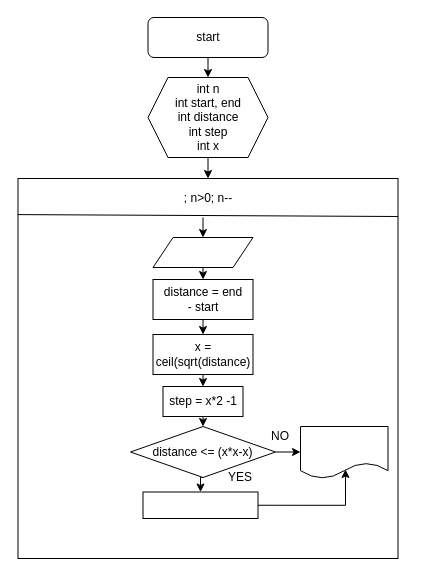
This 437x576 diagram has some shape labels left out. Each missing label, with the centre of its shape:
"read start, read end" belongs at [202,252].
"step" belongs at [344,452].
"step - =1" belongs at [200,504].
